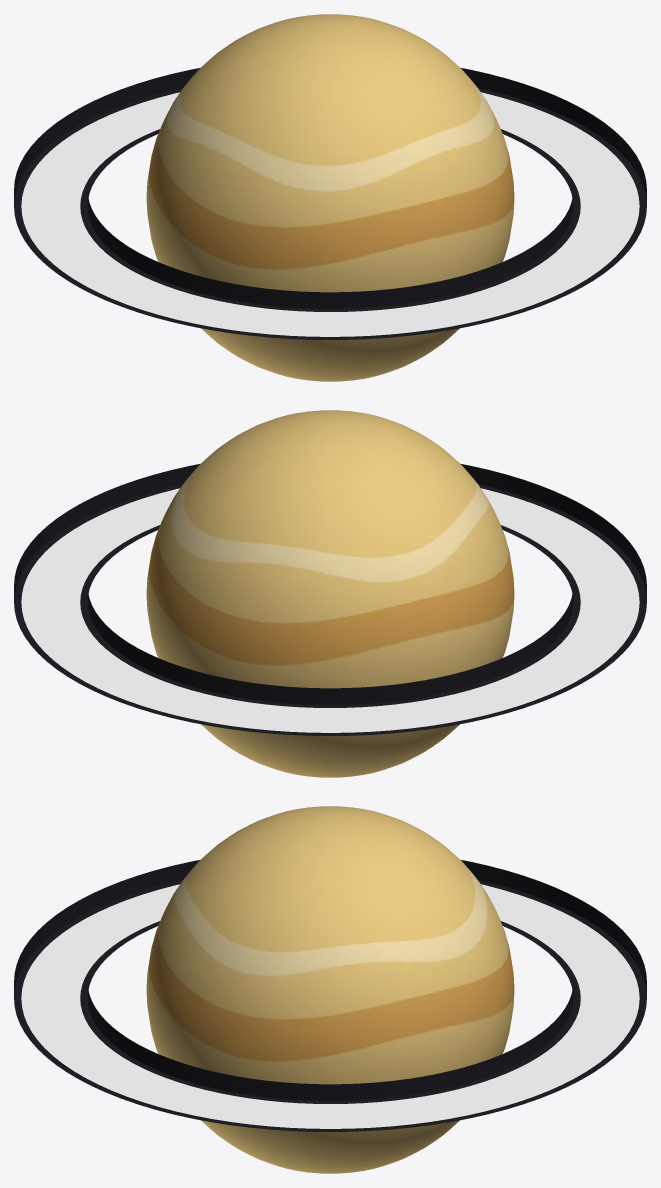
File: ball_venus.glb
The picture shows the model from 3 angles, top to bottom: view 1: azimuth 30°, elevation 25°; view 2: azimuth 150°, elevation 25°; view 3: azimuth 270°, elevation 25°; orthographic projection.
Visible parts, largest first — view 1: ball_venus, ring; view 2: ball_venus, ring; view 3: ball_venus, ring.
Boxes of the visible parts, x1,y1,x2,y2 form: ball_venus: [146, 14, 514, 381]; ring: [14, 68, 646, 339]; ball_venus: [146, 410, 514, 777]; ring: [14, 464, 646, 735]; ball_venus: [146, 806, 514, 1173]; ring: [14, 860, 646, 1131].
Bounding box in the file's own units: 1.72 × 1 × 1.72.
2 materials, 1 textured.
